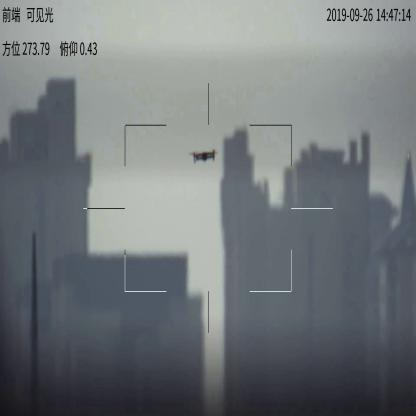uav: (188, 146, 219, 166)
